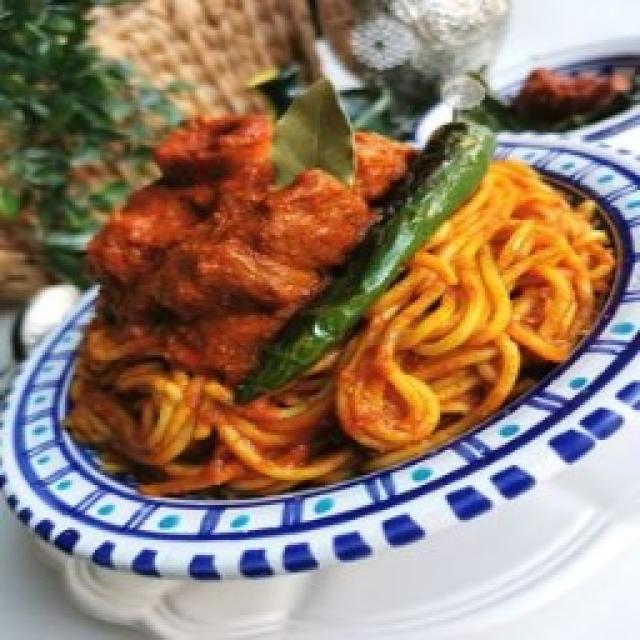Pasta: (62, 80, 628, 498)
